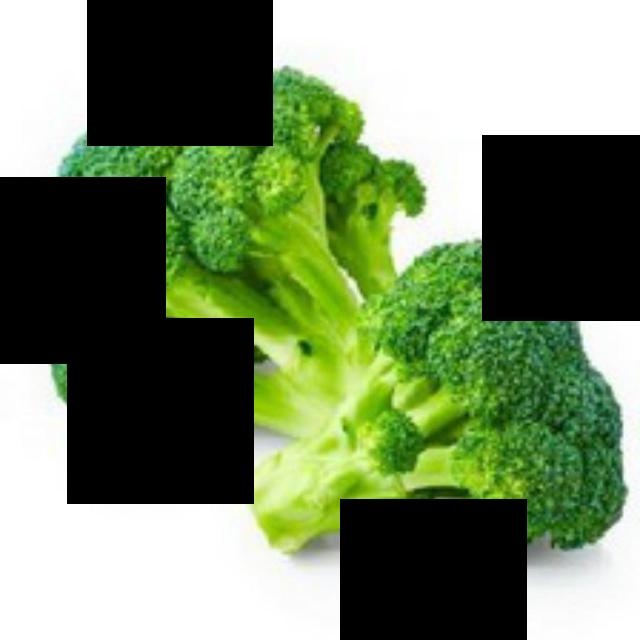broccoli: (242, 236, 636, 582)
